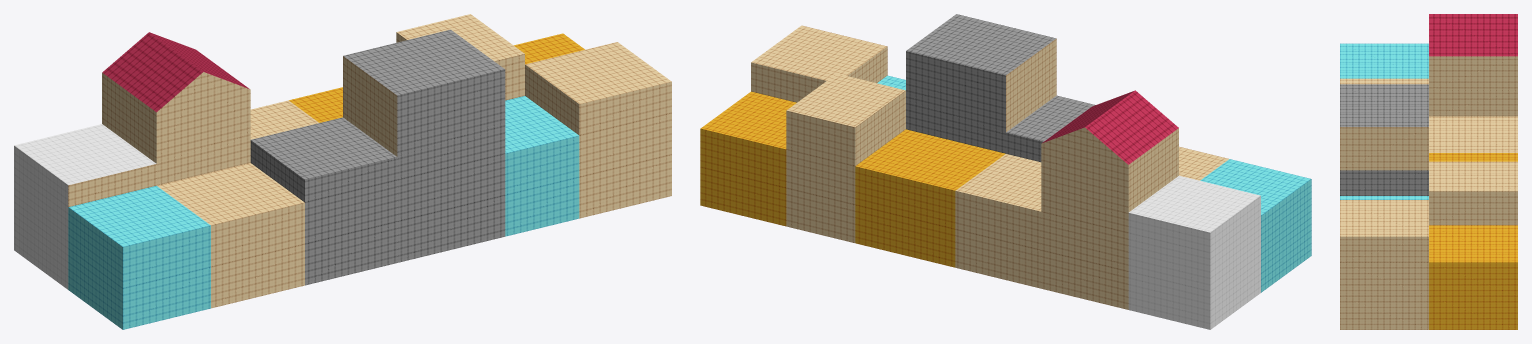
File: EDIFICIO_A.fbx
3 renders of one model, left to right at view 1: azimuth 30°, elevation 25°; view 2: azimuth 150°, elevation 25°; view 3: azimuth 270°, elevation 25°, orthographic. The views are drawn at different scales.
Visible parts, largest first — view 1: EDIFICIO_A; view 2: EDIFICIO_A; view 3: EDIFICIO_A.
Part boxes in pixels (x1=…): EDIFICIO_A: x1=14, y1=14, x2=671, y2=329; EDIFICIO_A: x1=700, y1=14, x2=1311, y2=329; EDIFICIO_A: x1=1340, y1=14, x2=1517, y2=329.
Size of the model in its own units: 82.89 by 26.72 by 28.47.
